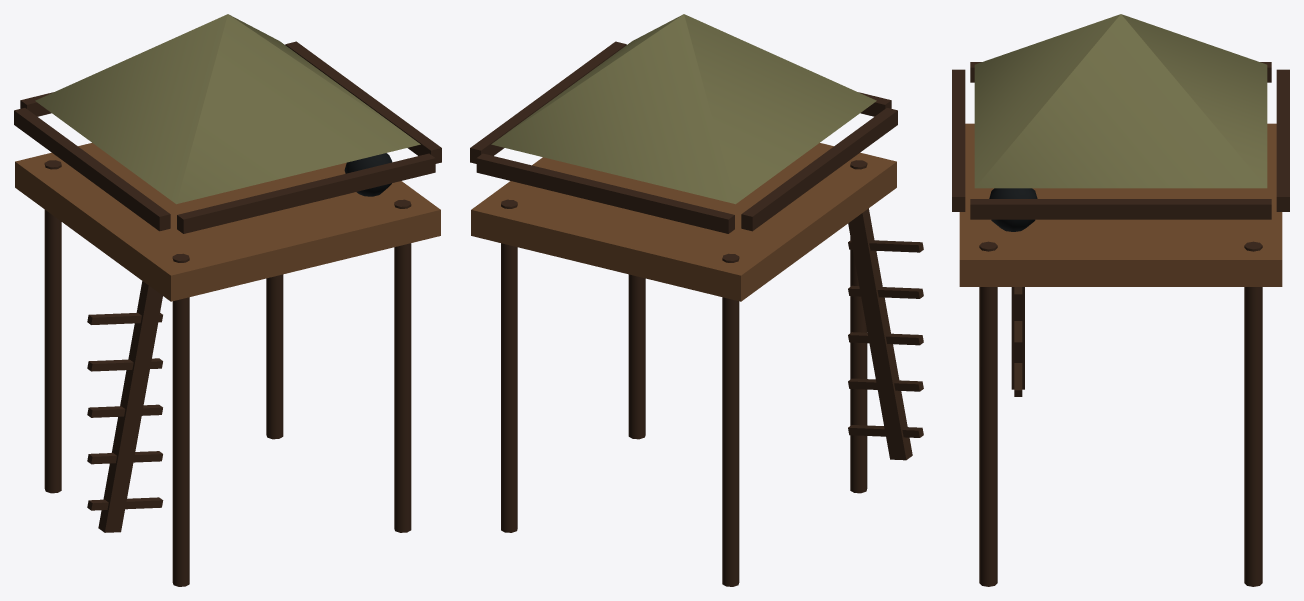
File: jungle-guard-tower.glb
3 views of the same model, side by side, from view 1: azimuth 30°, elevation 25°; view 2: azimuth 150°, elevation 25°; view 3: azimuth 270°, elevation 25° (orthographic). The views are drawn at different scales.
Parts seen in each view (by area): view 1: roof, platform, ladder, railFront, postFL, postRL, postRR, railLeft, postFR, railRight, searchLight, ladderRung1 (+4 smaller); view 2: roof, platform, ladder, railRear, postRR, postFR, railLeft, postRL, postFL, railRight, ladderRung1, ladderRung4 (+3 smaller); view 3: roof, platform, railRight, postFL, postFR, railFront, railRear, ladder, searchLight.
Boxes of the visible parts, x1=… form: roof: x1=35, y1=14, x2=420, y2=204; platform: x1=15, y1=143, x2=440, y2=301; ladder: x1=98, y1=281, x2=162, y2=532; railFront: x1=177, y1=153, x2=435, y2=233; postFL: x1=394, y1=199, x2=411, y2=532; postRL: x1=172, y1=253, x2=189, y2=586; postRR: x1=44, y1=160, x2=61, y2=493; railLeft: x1=14, y1=108, x2=170, y2=231; postFR: x1=266, y1=274, x2=283, y2=439; railRight: x1=285, y1=41, x2=441, y2=163; searchLight: x1=344, y1=153, x2=392, y2=196; ladderRung1: x1=87, y1=497, x2=163, y2=510; roof: x1=491, y1=14, x2=876, y2=204; platform: x1=471, y1=143, x2=896, y2=301; ladder: x1=848, y1=208, x2=912, y2=460; railRear: x1=476, y1=153, x2=734, y2=233; postRR: x1=722, y1=253, x2=739, y2=586; postFR: x1=501, y1=199, x2=517, y2=532; railLeft: x1=741, y1=108, x2=897, y2=231; postRL: x1=850, y1=160, x2=867, y2=493; postFL: x1=628, y1=274, x2=645, y2=439; railRight: x1=470, y1=41, x2=626, y2=163; ladderRung1: x1=848, y1=425, x2=923, y2=437; ladderRung4: x1=848, y1=285, x2=923, y2=298; roof: x1=974, y1=14, x2=1267, y2=188; platform: x1=959, y1=123, x2=1282, y2=286; railRight: x1=970, y1=199, x2=1271, y2=219; postFL: x1=979, y1=241, x2=997, y2=586; postFR: x1=1244, y1=241, x2=1262, y2=586; railFront: x1=952, y1=69, x2=965, y2=211; railRear: x1=1276, y1=69, x2=1289, y2=211; ladder: x1=1011, y1=287, x2=1024, y2=389; searchLight: x1=989, y1=188, x2=1037, y2=231.
Bounding box in the file's own units: 2.38 × 3.42 × 2.04.
